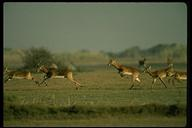antelope: (32, 59, 84, 90), (105, 58, 143, 93), (3, 66, 40, 92), (143, 64, 175, 90)
grass: (4, 104, 185, 126)
sky: (4, 4, 186, 41)
